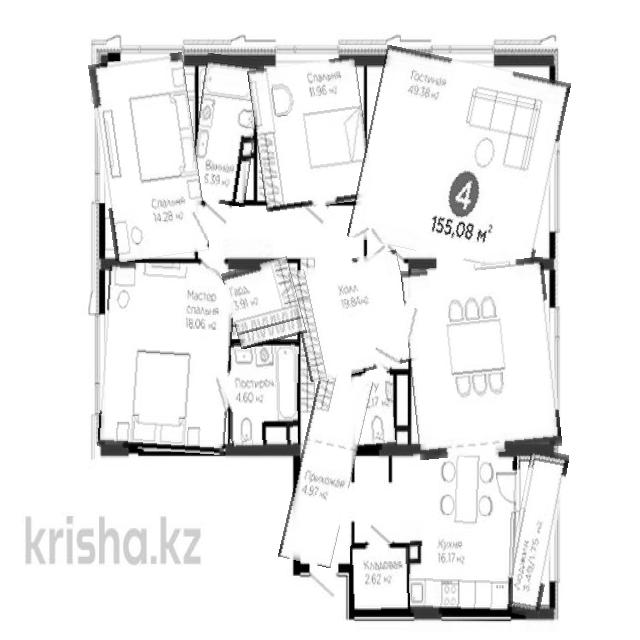balcony: (507, 449, 562, 617)
bathroom: (192, 55, 260, 205), (229, 339, 300, 453), (229, 342, 298, 450), (354, 372, 394, 452)
hallway: (293, 254, 414, 377), (288, 372, 363, 567)
kitchen: (409, 448, 516, 616)
living_room: (356, 53, 562, 267), (405, 260, 558, 457), (100, 263, 233, 453), (94, 55, 203, 261), (252, 60, 369, 210)
other: (226, 259, 302, 346), (351, 544, 410, 613)
